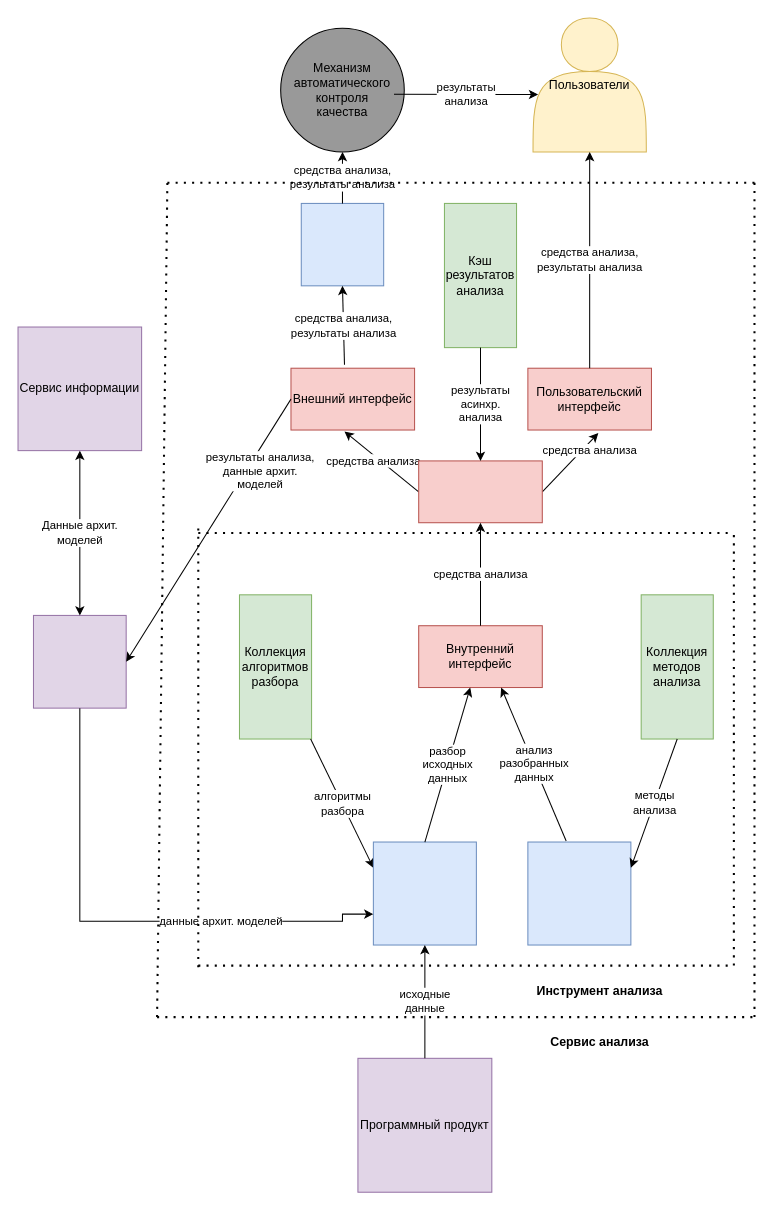
This 775x1210 diagram has some shape labels left out. The shapes that lost their labels are listed below. From the top down, each one's box as (x1, y1, x2, y2) in pixels, then its label:
(300, 202, 384, 286): Сервис внешней интеграции
(418, 460, 542, 523): Адаптер интеграции
(32, 614, 126, 708): Механизм интеграции
(372, 841, 476, 945): Механизм разбора
(527, 841, 631, 945): Механизм анализа
